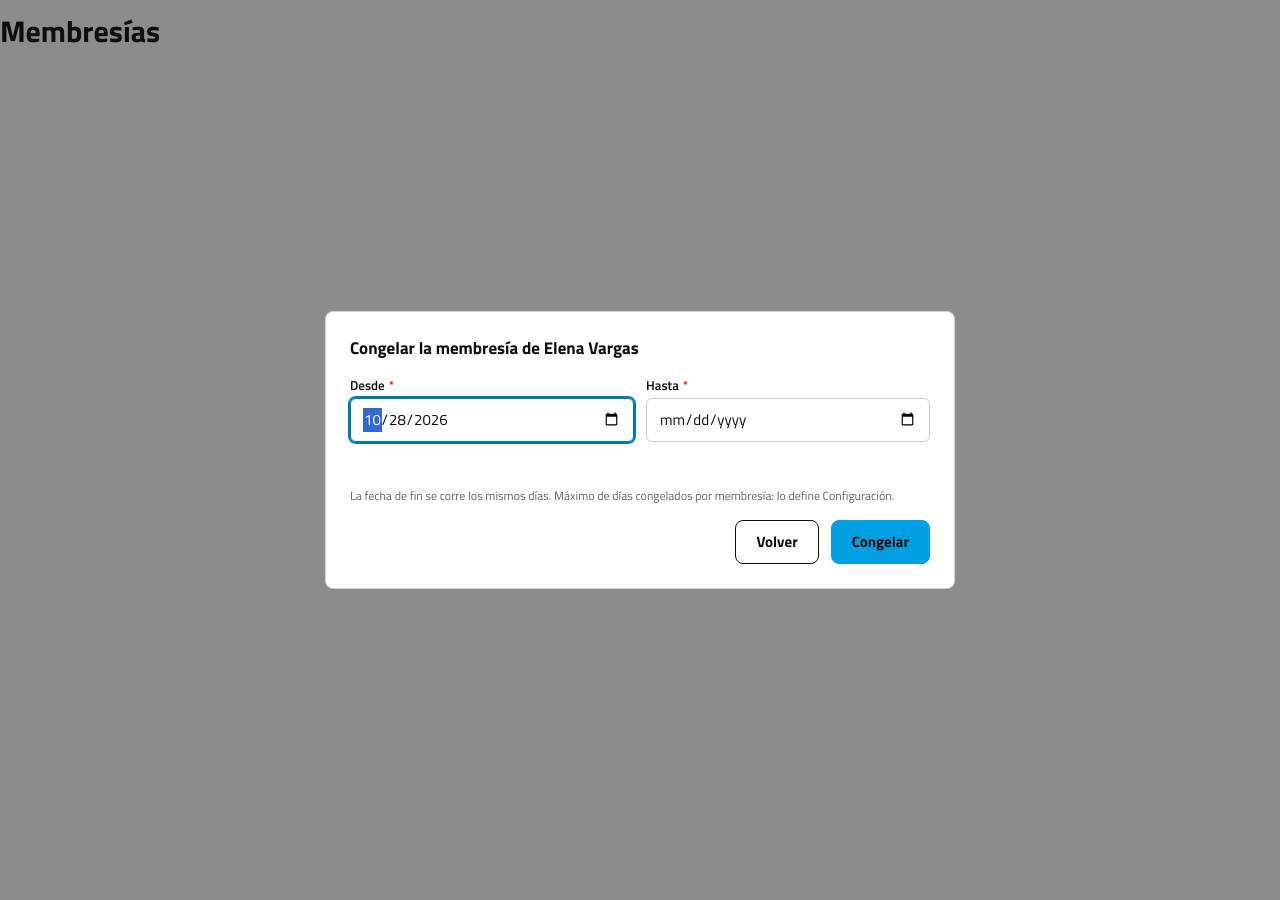
Scenario: FreezeModal · errores del api › 409 membership_not_freezable se explica en el modal sin cerrarlo
In the date field labelled "Hasta*": (788, 420) top-left (646, 398), bottom-right (930, 442), type "2026-11-06"
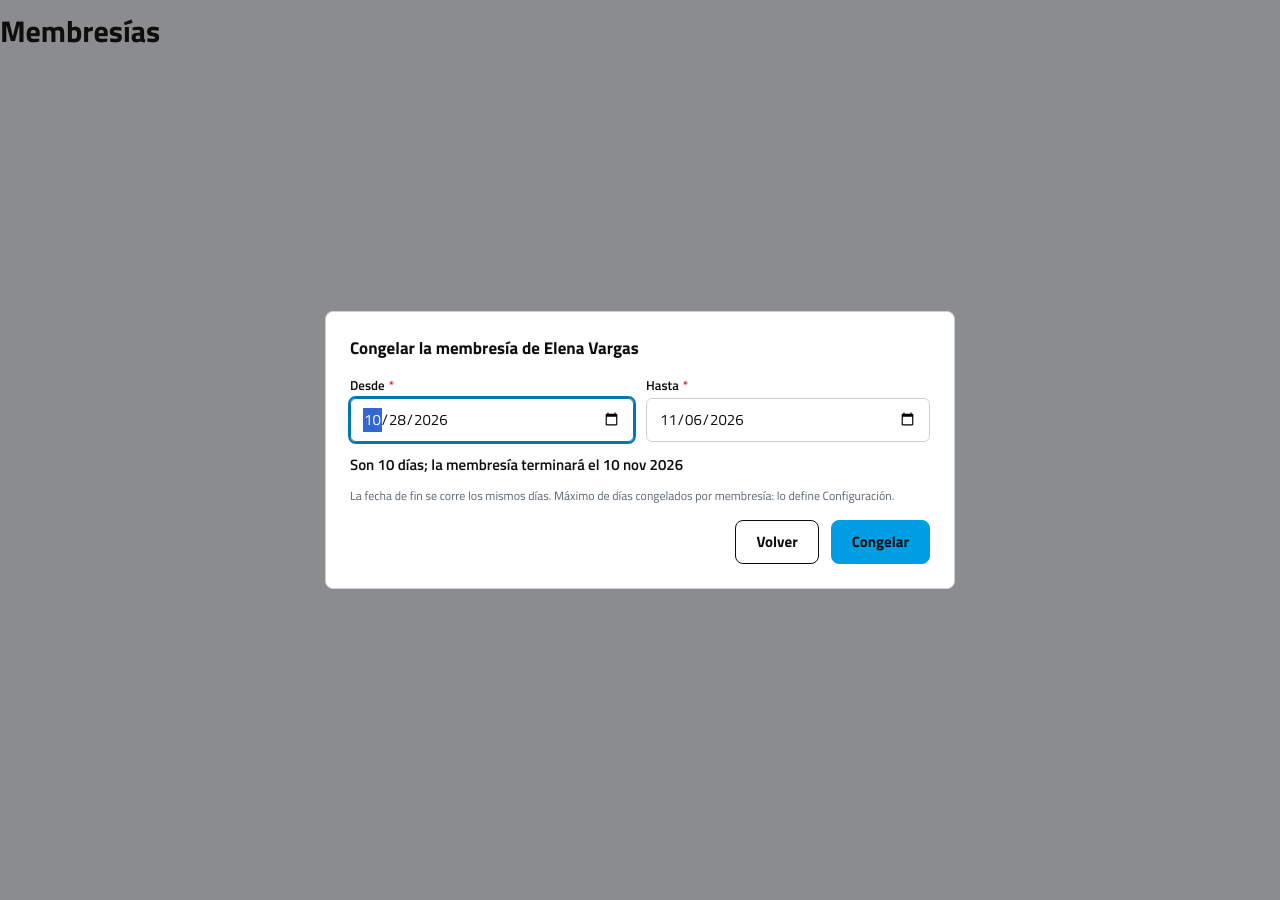
Click the button "Congelar": (880, 542) top-left (831, 520), bottom-right (930, 564)
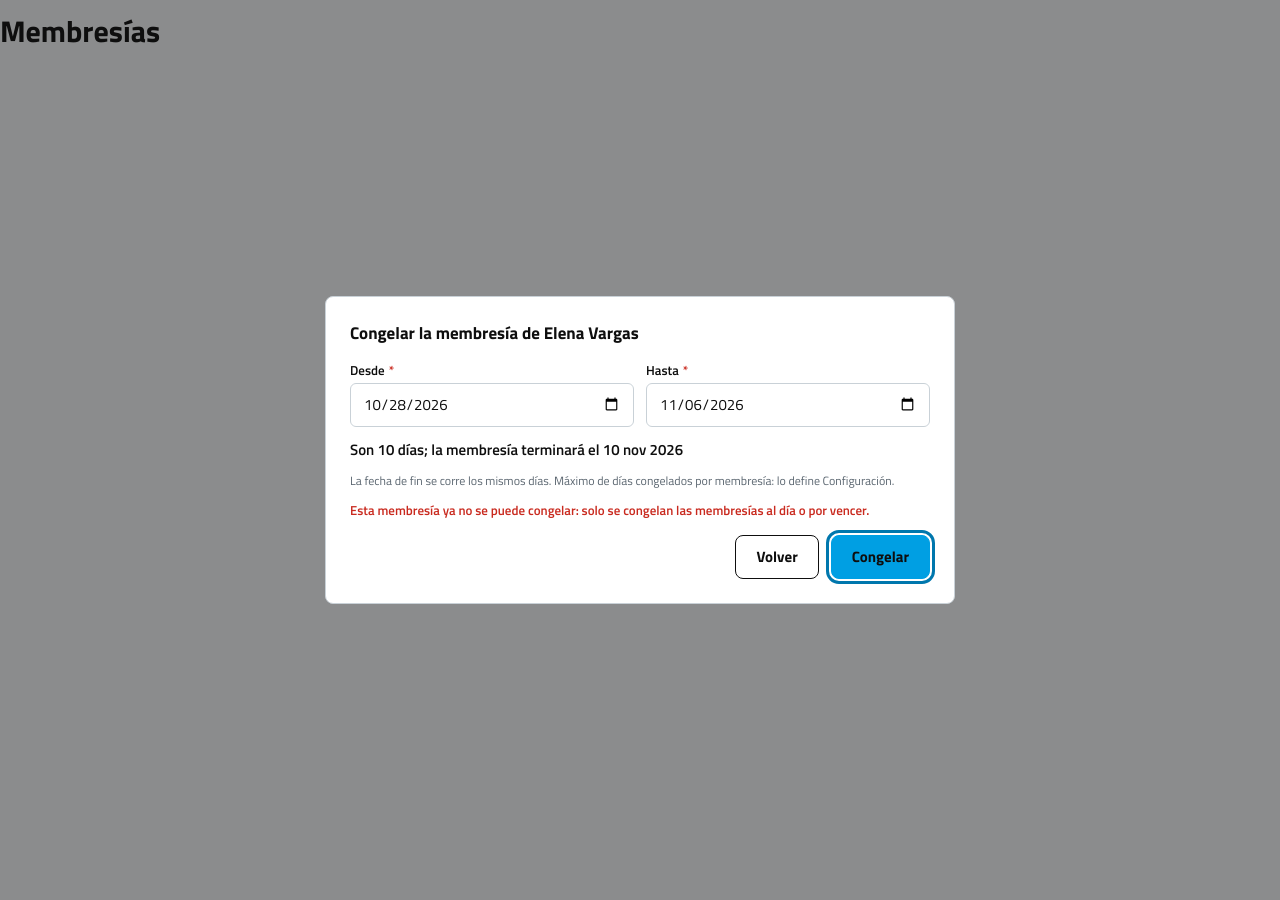
Check: the message shows "Esta membresía ya no se puede congelar: solo se congelan las membresías al día o por vencer.", box top-left (350, 500), bottom-right (869, 520)
